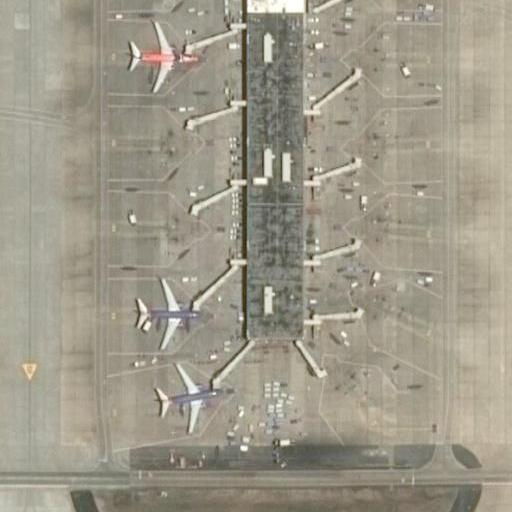Aircraft: (150, 361, 234, 433), (118, 23, 199, 88), (129, 279, 207, 345)
